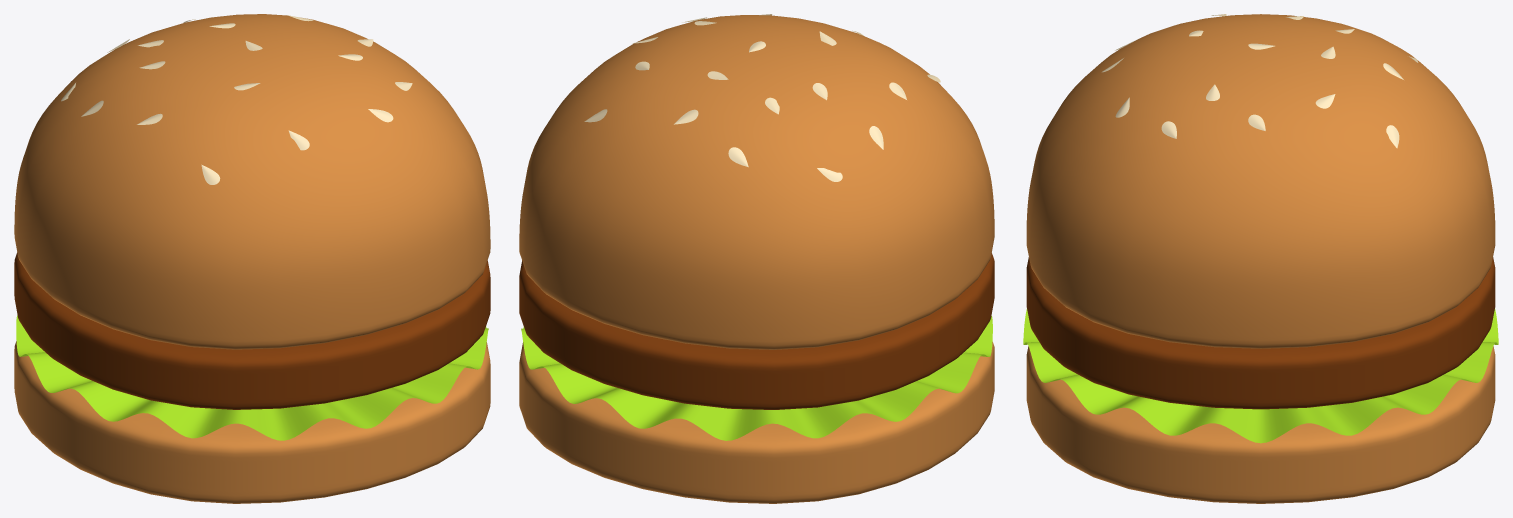
The model's file is burger steak lettuce.glb.
3 renders of one model, left to right at view 1: azimuth 30°, elevation 25°; view 2: azimuth 150°, elevation 25°; view 3: azimuth 270°, elevation 25°, orthographic.
Visible parts, largest first — view 1: burger steak salade; view 2: burger steak salade; view 3: burger steak salade.
Boxes of the visible parts, bbox=[...] form: burger steak salade: bbox=[14, 14, 490, 503]; burger steak salade: bbox=[519, 14, 994, 503]; burger steak salade: bbox=[1023, 14, 1498, 503].
Bounding box in the file's own units: 1.21 × 1.05 × 1.21.
